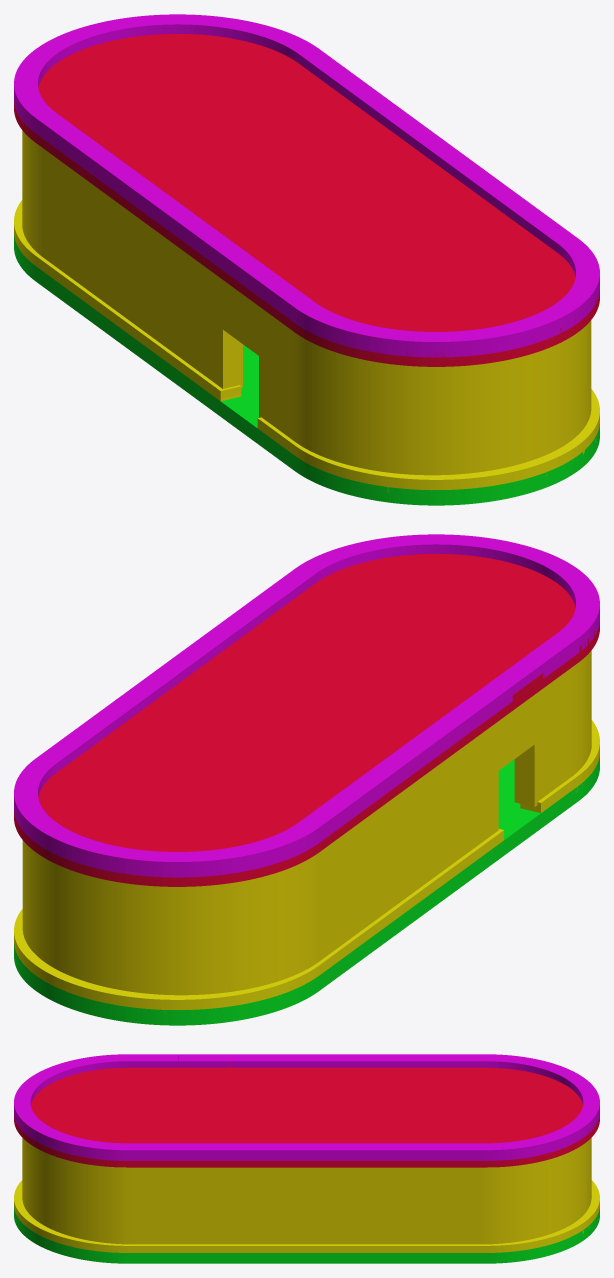
File: casa5.fbx
3 renders of one model, top to bottom at view 1: azimuth 30°, elevation 25°; view 2: azimuth 150°, elevation 25°; view 3: azimuth 270°, elevation 25°, orthographic. The views are drawn at different scales.
Parts seen in each view (by area): view 1: Cube.008; view 2: Cube.008; view 3: Cube.008.
Part boxes in pixels (<box>): Cube.008: <box>14,14,599,505</box>; Cube.008: <box>14,534,599,1025</box>; Cube.008: <box>14,1054,599,1263</box>.
Bounding box in the file's own units: 36.49 × 14.14 × 7.79.
